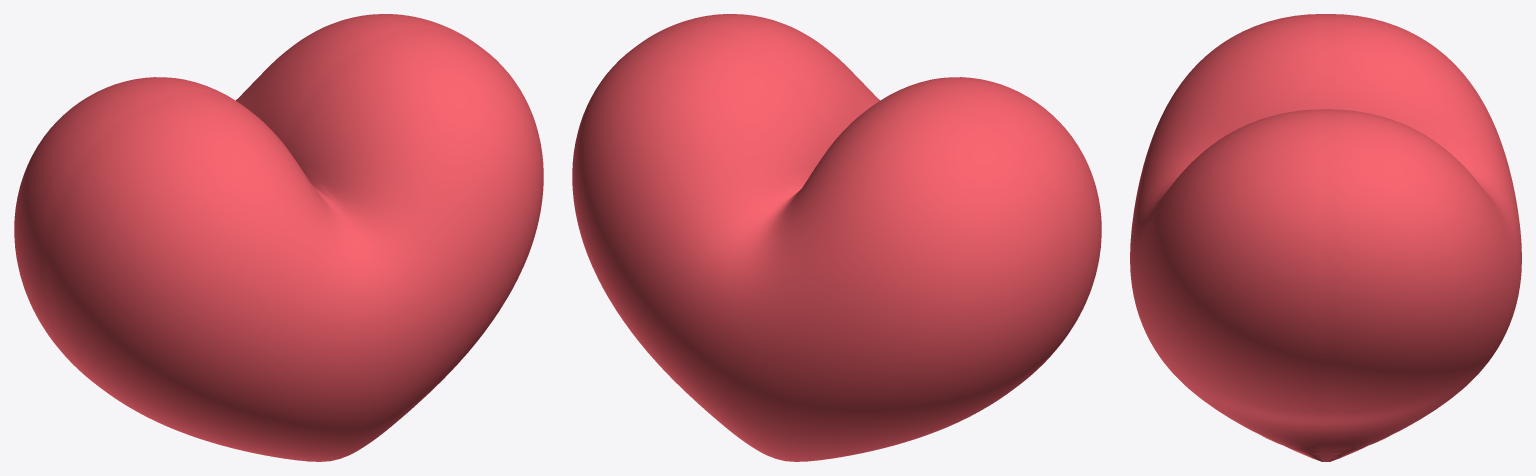
The model's file is oetc2026Asset 1heart.gltf.
3 renders of one model, left to right at view 1: azimuth 30°, elevation 25°; view 2: azimuth 150°, elevation 25°; view 3: azimuth 270°, elevation 25°, orthographic. The views are drawn at different scales.
Size of the model in its own units: 0.2131 by 0.1739 by 0.163.
